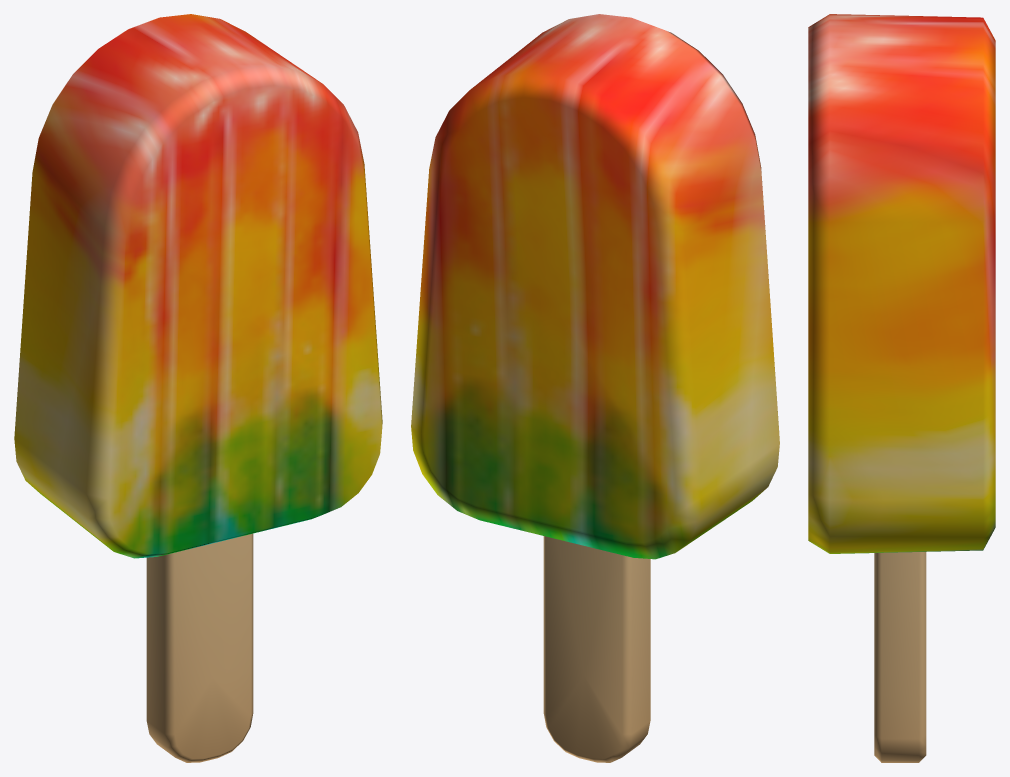
Rendered from Ice_cream.fbx.
3 renders of one model, left to right at view 1: azimuth 30°, elevation 25°; view 2: azimuth 150°, elevation 25°; view 3: azimuth 270°, elevation 25°, orthographic. The views are drawn at different scales.
Visible parts, largest first — view 1: Ice_cream; view 2: Ice_cream; view 3: Ice_cream.
Part boxes in pixels (bbox=[...]): Ice_cream: bbox=[14, 14, 382, 762]; Ice_cream: bbox=[411, 14, 779, 762]; Ice_cream: bbox=[808, 14, 995, 762].
Bounding box in the file's own units: 5.49 × 12.56 × 2.94.
